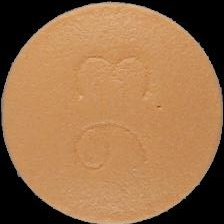0615-7846: (0, 0, 224, 224)
